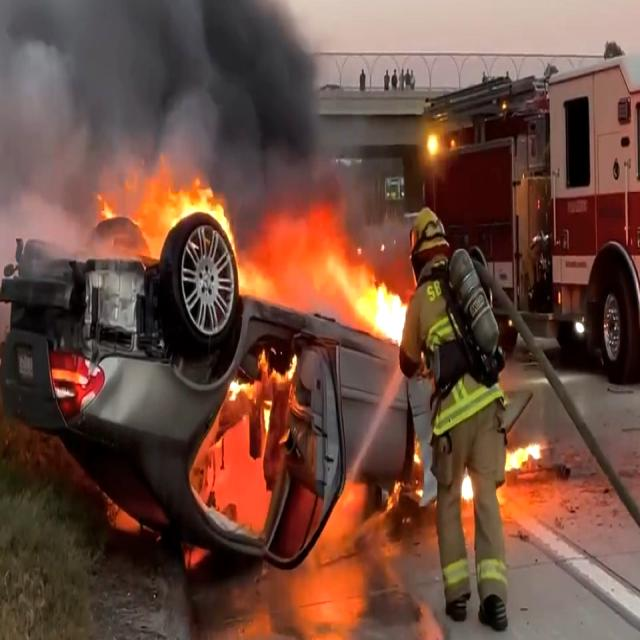fire: (114, 212, 262, 572), (341, 240, 402, 350)
smoke: (0, 0, 214, 194)
